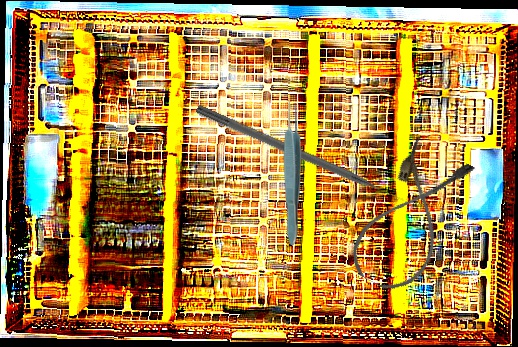Cannula: (342, 134, 480, 302)
Pusher: (194, 103, 406, 208)
Tissue Forceps: (283, 98, 302, 245)
